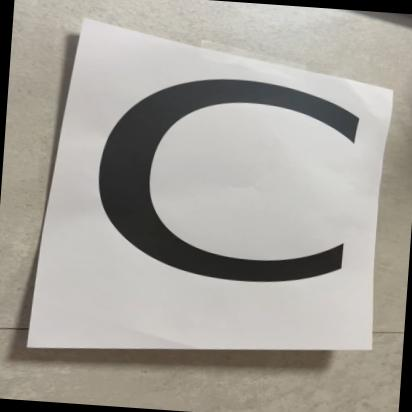seat: (48, 24, 392, 362)
